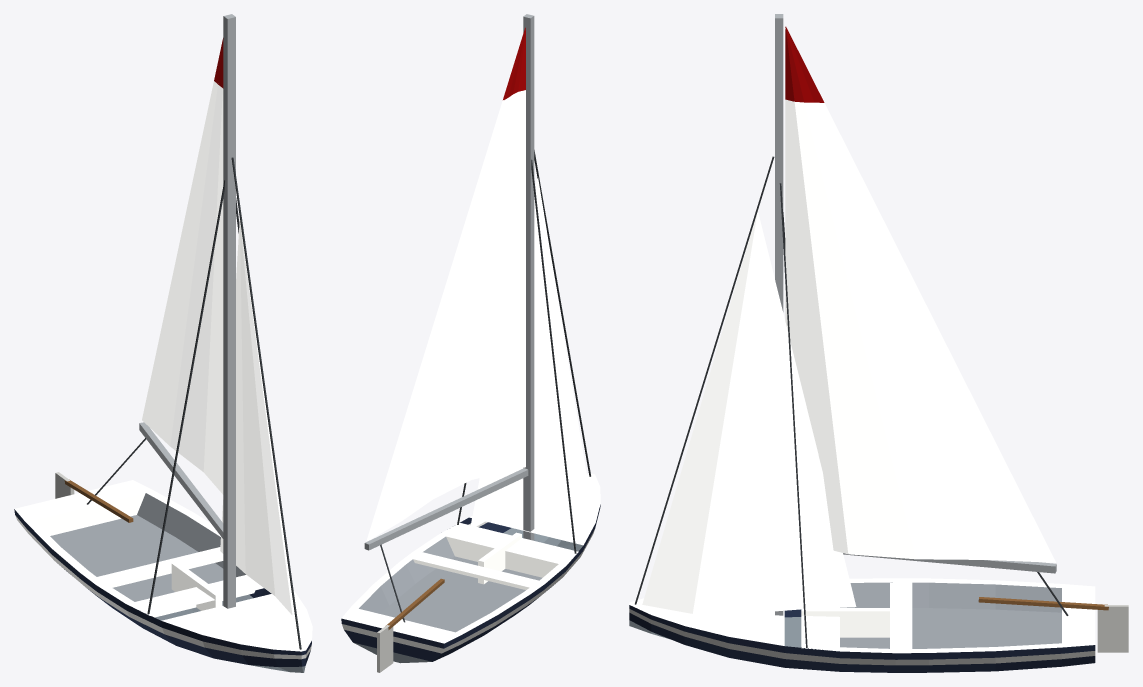
Rendered from sailboat-navy.glb.
3 views of the same model, side by side, from view 1: azimuth 30°, elevation 25°; view 2: azimuth 150°, elevation 25°; view 3: azimuth 270°, elevation 25° (orthographic). The views are drawn at different scales.
Parts seen in each view (by area): view 1: sailboat-navy; view 2: sailboat-navy; view 3: sailboat-navy.
Boxes of the visible parts, bbox=[...] form: sailboat-navy: bbox=[14, 14, 312, 672]; sailboat-navy: bbox=[341, 14, 600, 672]; sailboat-navy: bbox=[629, 14, 1128, 672].
Bounding box in the file's own units: 1.6 × 6.36 × 4.5.
